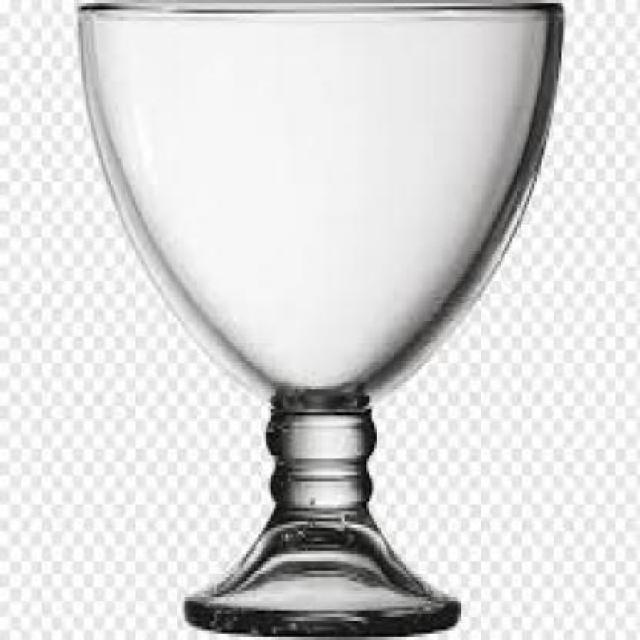kaca: (77, 0, 561, 637)
